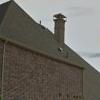Chimney: (48, 6, 77, 50)
